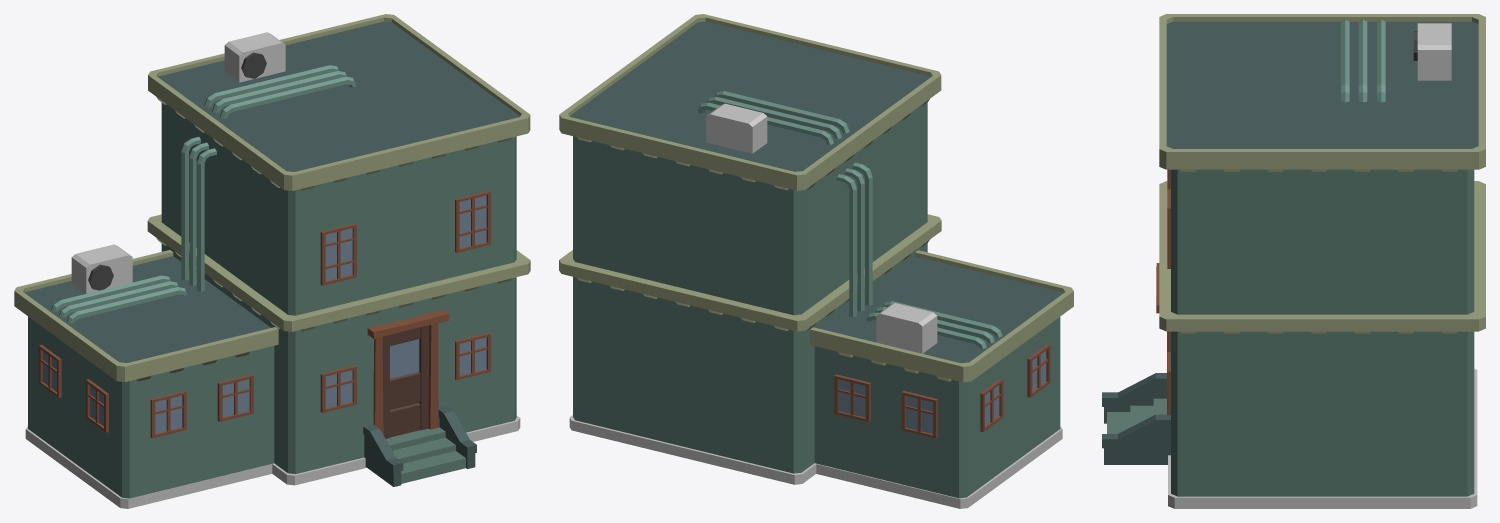
Rendered from Building2.fbx.
3 renders of one model, left to right at view 1: azimuth 30°, elevation 25°; view 2: azimuth 150°, elevation 25°; view 3: azimuth 270°, elevation 25°, orthographic. The views are drawn at different scales.
Parts seen in each view (by area): view 1: Building2; view 2: Building2; view 3: Building2.
Boxes of the visible parts, x1,y1,x2,y2 form: Building2: (14,14,530,508); Building2: (559,14,1073,508); Building2: (1102,14,1485,508).
Size of the model in its own units: 347 by 284 by 253.
